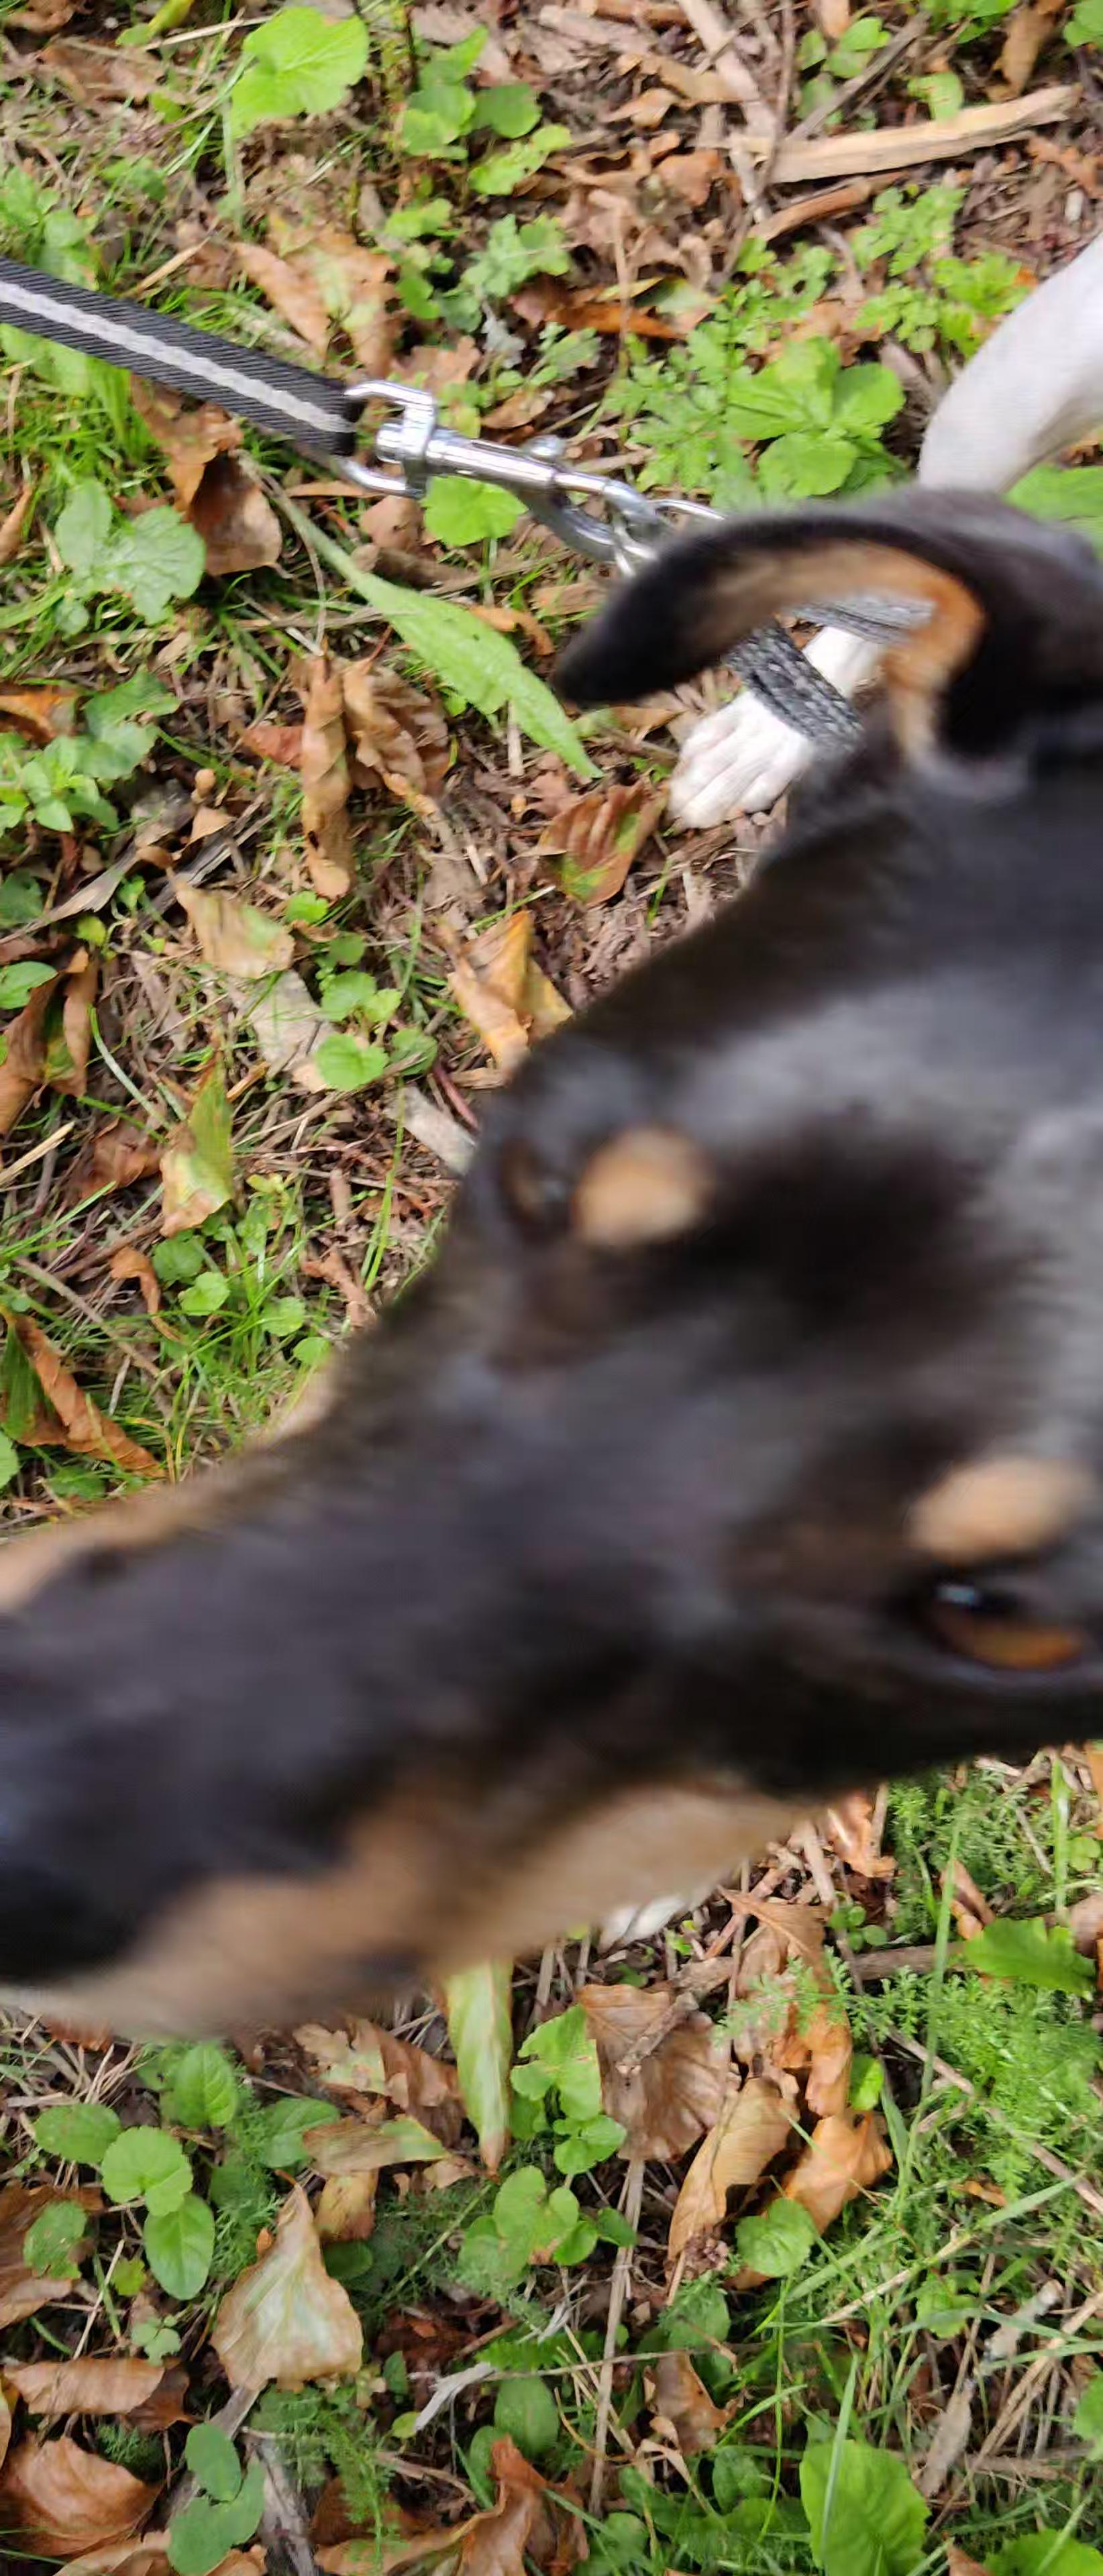Dog: (0, 232, 1103, 2057)
